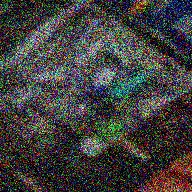러키펜정: (79, 138, 103, 157)
씨엠지세파클러캡슐: (87, 69, 117, 98)
에르도캡슐: (110, 72, 151, 101)
휴티렌정: (95, 120, 125, 142)
